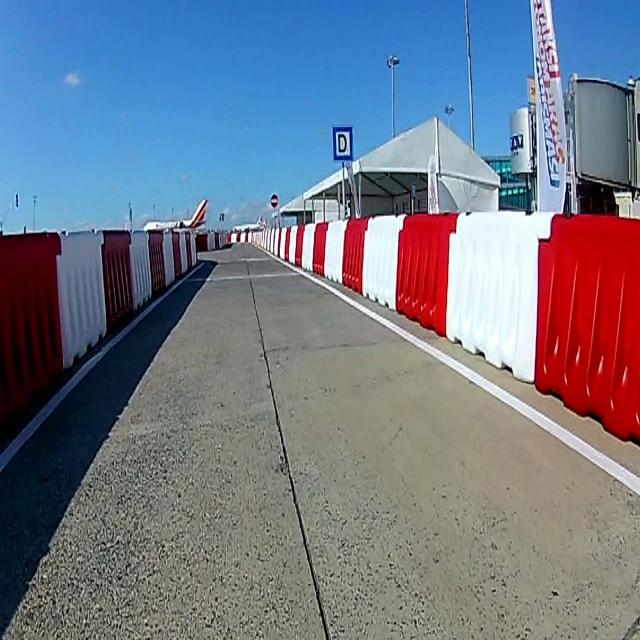durak: (332, 126, 354, 161)
girisyok: (270, 193, 278, 208)
